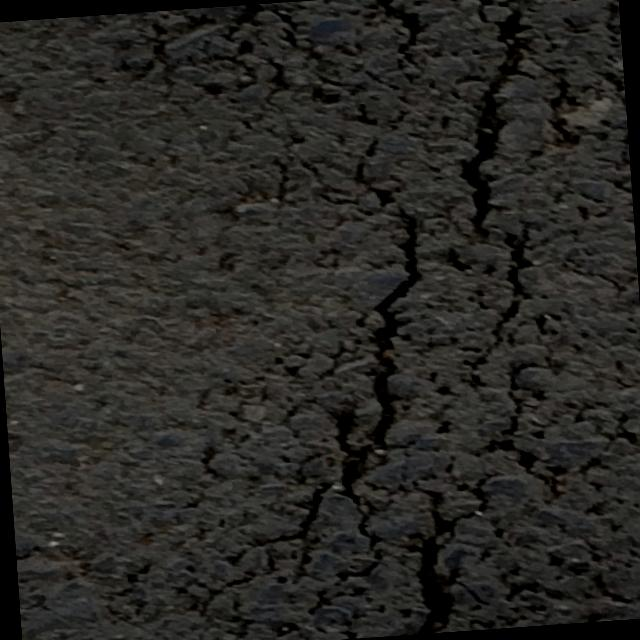crack: (174, 0, 578, 640)
